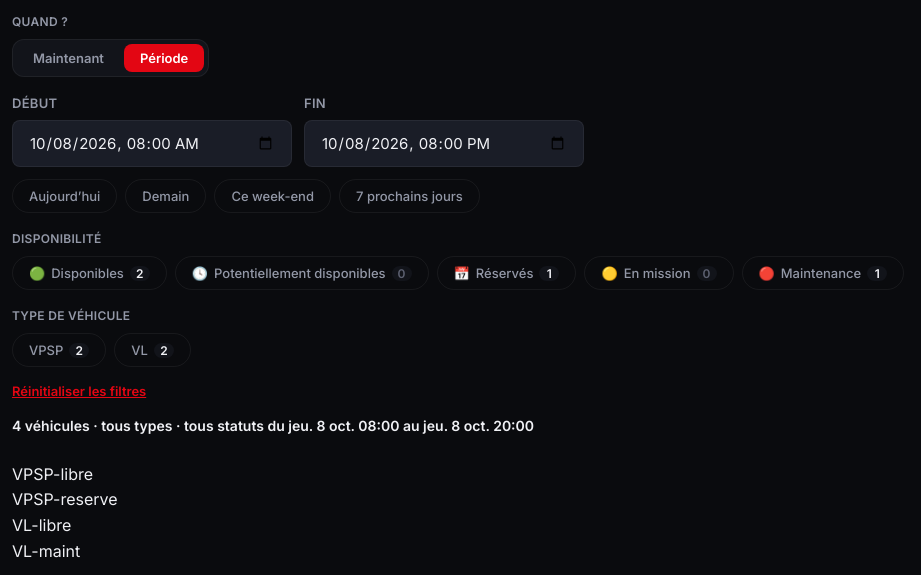
Scenario: DtFilterPanel › raccourcis : remplissent les champs et apparaissent actifs tant qu’ils correspondent
Click the button "Demain".
click(166, 196)  # box x1=125 y1=179 x2=206 y2=213
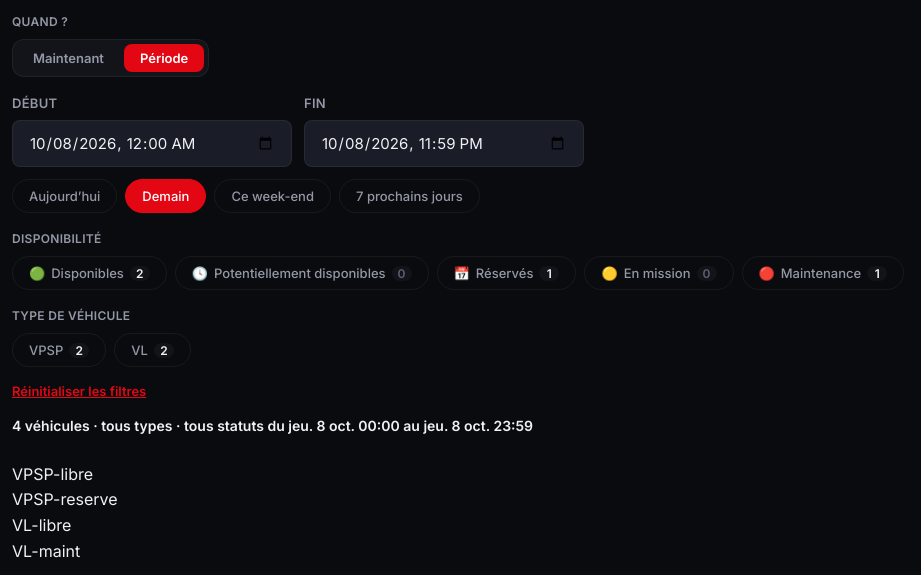
Expected: the field labelled "Début" holds "2026-10-08T00:00", x1=12 y1=120 x2=292 y2=167
Expected: the field labelled "Fin" holds "2026-10-08T23:59", x1=304 y1=120 x2=584 y2=167
Click the button "Ce week-end".
click(273, 196)  # box x1=214 y1=179 x2=331 y2=213
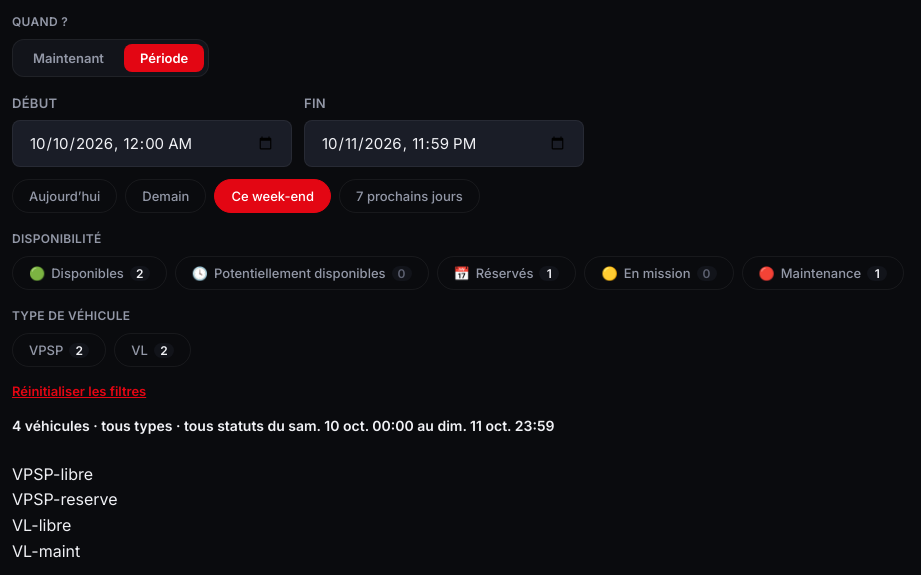
Expected: the field labelled "Début" holds "2026-10-10T00:00", x1=12 y1=120 x2=292 y2=167
Expected: the field labelled "Fin" holds "2026-10-11T23:59", x1=304 y1=120 x2=584 y2=167
Click the button "Aujourd’hui".
click(65, 196)  # box x1=12 y1=179 x2=117 y2=213
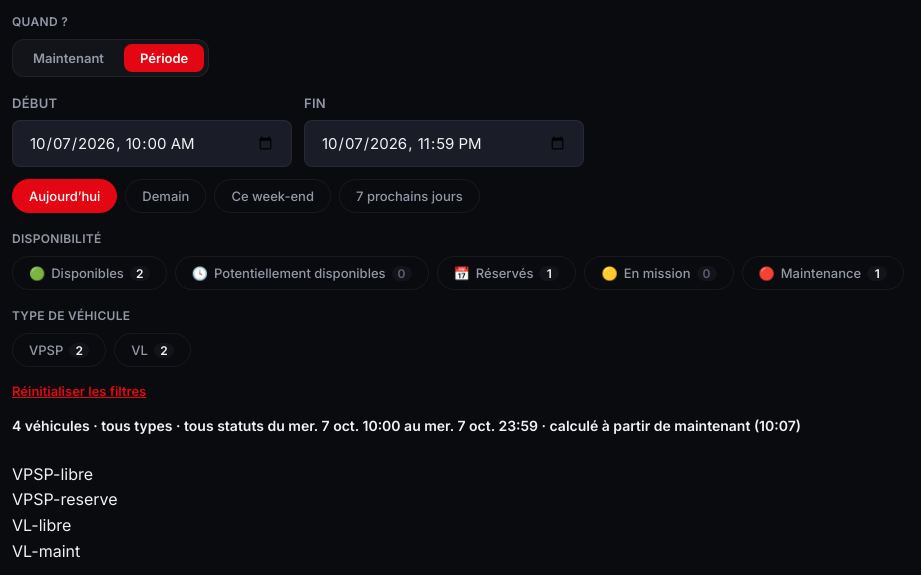
Expected: the field labelled "Début" holds "2026-10-07T10:00", x1=12 y1=120 x2=292 y2=167
Expected: the field labelled "Fin" holds "2026-10-07T23:59", x1=304 y1=120 x2=584 y2=167
Click the button "7 prochains jours".
click(409, 196)  # box x1=339 y1=179 x2=480 y2=213
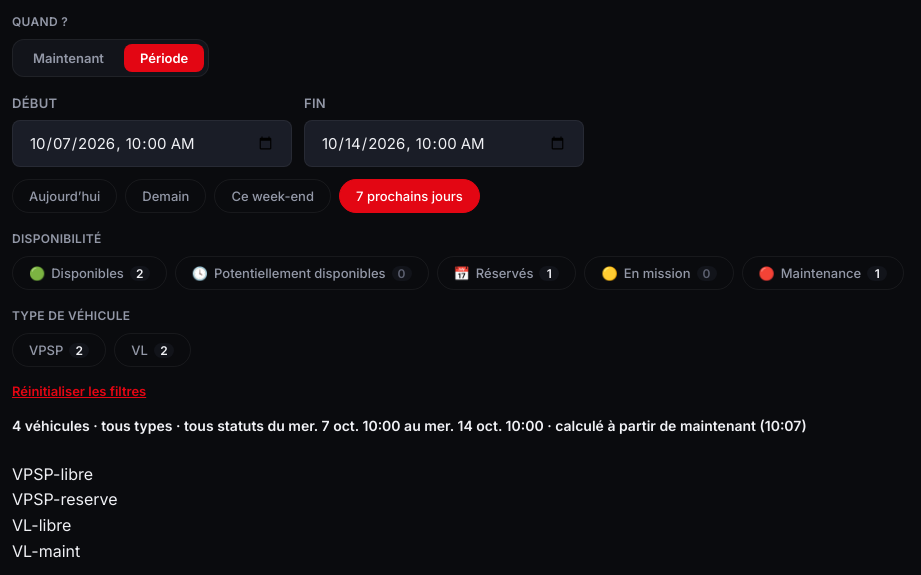
Expected: the field labelled "Début" holds "2026-10-07T10:00", x1=12 y1=120 x2=292 y2=167
Expected: the field labelled "Fin" holds "2026-10-14T10:00", x1=304 y1=120 x2=584 y2=167
